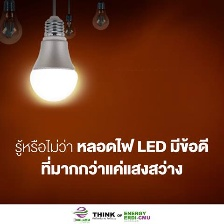light_bulb: (26, 15, 80, 106), (0, 0, 23, 46), (89, 0, 111, 32), (58, 10, 79, 40)
